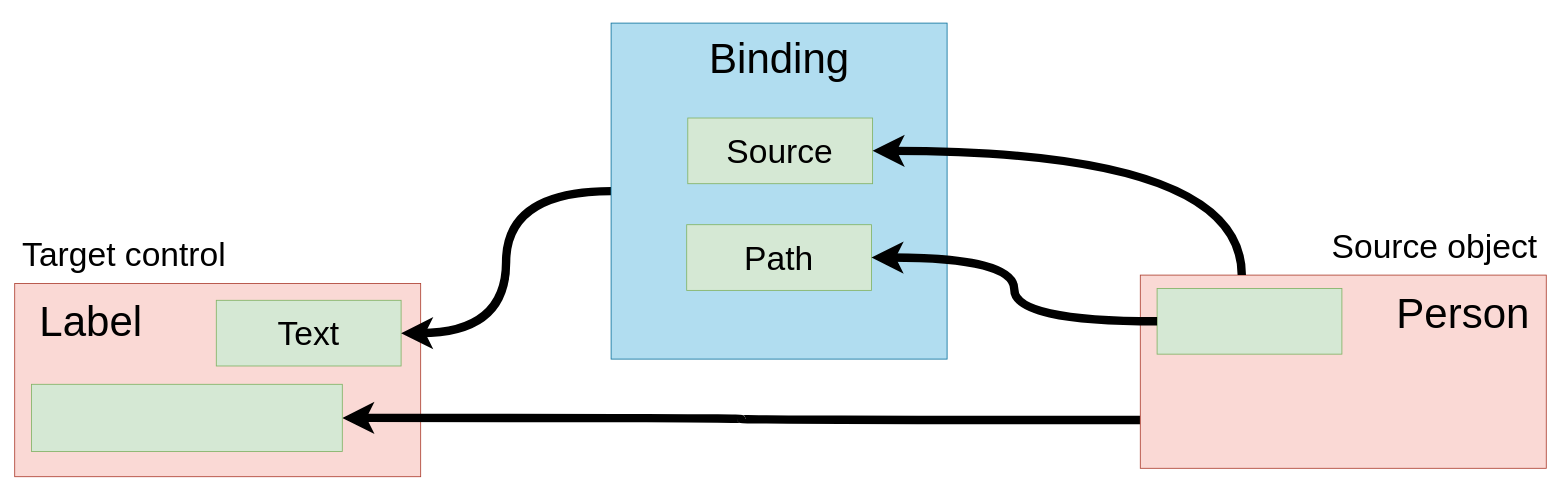
Image size: 1562x491. Some labels were removed from this diagram. Here are the shapes that lost their labels. From the top down, the centre of each, then its label:
At (1249,321): "Name".
At (186,417): "BindingContext".
